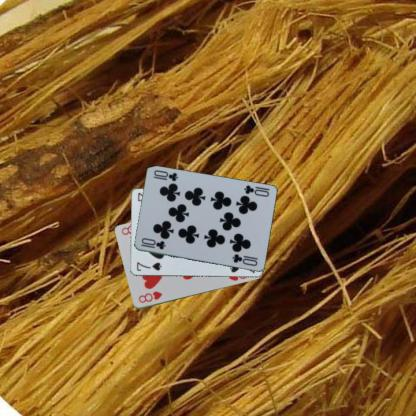10c: (138, 235, 166, 251), (241, 183, 270, 198)
7s: (134, 260, 163, 272)
8h: (136, 289, 163, 304)
